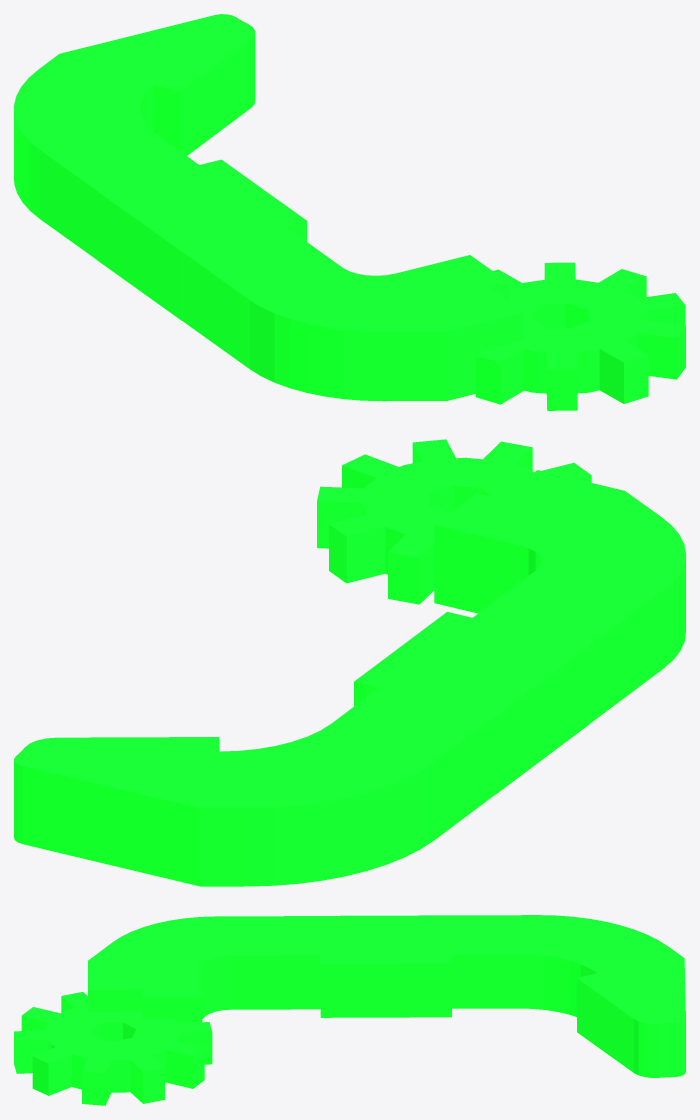
Rendered from esquerda.dae.
3 views of the same model, one above another, from view 1: azimuth 30°, elevation 25°; view 2: azimuth 150°, elevation 25°; view 3: azimuth 270°, elevation 25° (orthographic). The views are drawn at different scales.
Visible parts, largest first — view 1: Esquerda; view 2: Esquerda; view 3: Esquerda.
Boxes of the visible parts, x1=… form: Esquerda: x1=14, y1=14, x2=685, y2=410; Esquerda: x1=14, y1=439, x2=685, y2=886; Esquerda: x1=14, y1=915, x2=685, y2=1105.
Size of the model in its own units: 27.12 by 56.33 by 5.
